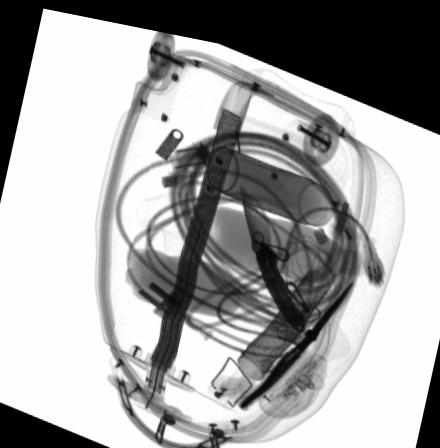Knife: (237, 172, 307, 320)
Scissors: (237, 264, 354, 397)
